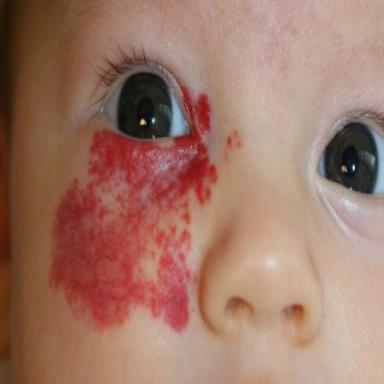Hemangiome: (51, 87, 217, 329)
